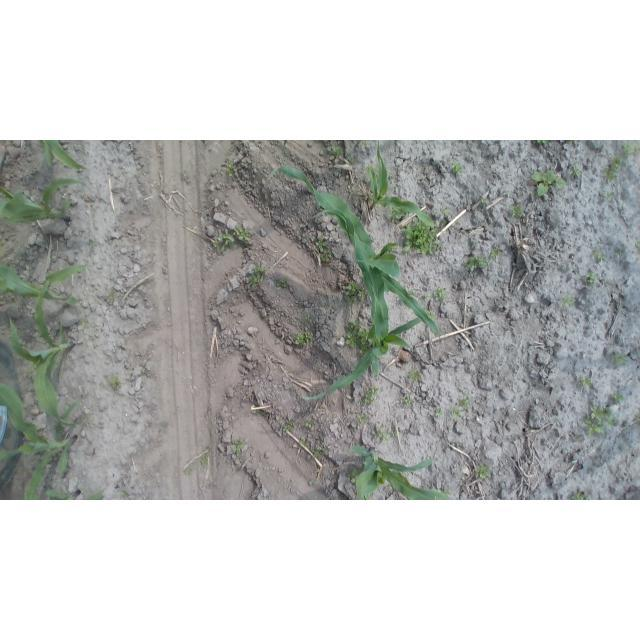Maize: (263, 165, 441, 351), (301, 237, 427, 404), (8, 265, 81, 432), (1, 380, 80, 493), (368, 143, 433, 227), (349, 445, 446, 500), (0, 261, 94, 309), (1, 176, 84, 225), (37, 140, 87, 172), (40, 482, 108, 500), (279, 140, 292, 154)
Weeds: (401, 217, 444, 255), (583, 404, 615, 436), (531, 170, 566, 198), (344, 279, 368, 305), (345, 323, 367, 349), (604, 156, 623, 184), (213, 229, 236, 252), (248, 262, 267, 288), (463, 255, 490, 272), (294, 331, 314, 348), (234, 225, 252, 243), (327, 145, 345, 161), (372, 426, 388, 442), (312, 443, 328, 459), (282, 418, 298, 434), (622, 142, 637, 159), (475, 465, 492, 480), (389, 207, 407, 221), (610, 351, 628, 365), (232, 439, 247, 454), (109, 376, 123, 391), (592, 249, 607, 263), (408, 368, 423, 382), (348, 468, 361, 484), (561, 294, 575, 308), (363, 389, 377, 403), (510, 204, 525, 217), (584, 272, 599, 285), (570, 491, 590, 500), (451, 161, 463, 176), (366, 386, 379, 399), (580, 376, 593, 389), (316, 239, 329, 252), (611, 392, 625, 404), (434, 286, 446, 300), (456, 397, 471, 407), (494, 482, 506, 494), (320, 251, 332, 263), (226, 164, 237, 177), (401, 395, 415, 405), (571, 166, 582, 178), (434, 408, 445, 419), (605, 192, 616, 203), (450, 407, 461, 418), (357, 413, 369, 423), (276, 278, 288, 288), (200, 454, 208, 469), (107, 288, 115, 301), (298, 437, 308, 447), (491, 248, 500, 259), (426, 311, 436, 320), (443, 487, 452, 497), (260, 410, 270, 419), (442, 207, 450, 218), (305, 420, 314, 429), (441, 218, 450, 226), (81, 318, 89, 327), (614, 250, 622, 258), (347, 155, 355, 163), (480, 198, 488, 206), (309, 479, 318, 486), (307, 314, 314, 323), (536, 141, 548, 146), (120, 491, 128, 498), (408, 289, 415, 297), (184, 469, 192, 476), (391, 430, 398, 438), (423, 294, 430, 302), (387, 487, 394, 494), (358, 140, 366, 146)
